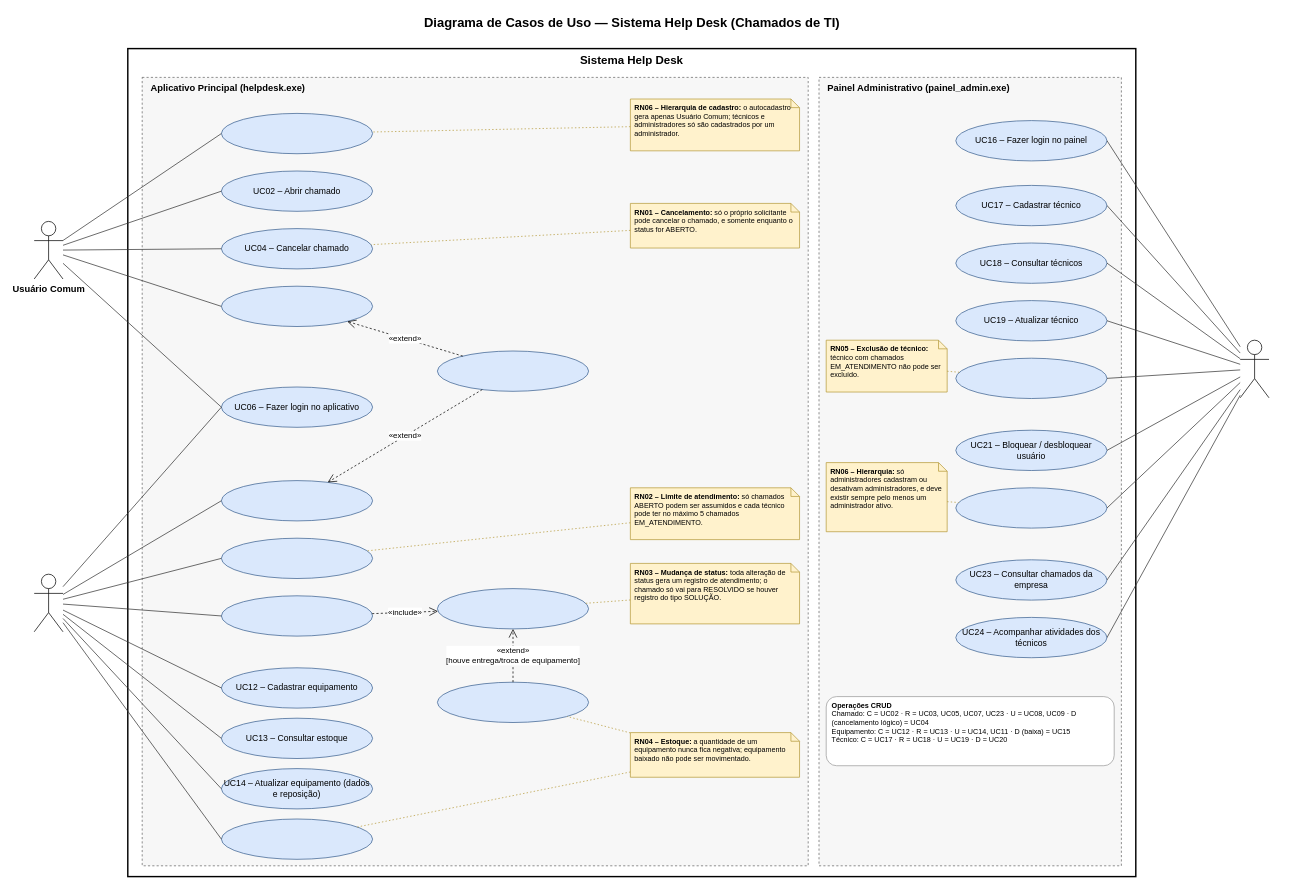
Image size: 1299x889. Some labels were removed from this diagram. The centre of each missing label's shape, as x and y in pixels:
"Administrador" belongs at pixel 1254 368.
"Técnico de TI" belongs at pixel 48 602.
"UC01 – Cadastrar conta" belongs at pixel 297 133.
"UC03 – Consultar meus chamados" belongs at pixel 297 306.
"UC05 – Visualizar histórico do chamado" belongs at pixel 513 370.
"UC07 – Consultar fila de chamados" belongs at pixel 297 500.
"UC08 – Assumir chamado" belongs at pixel 297 558.
"UC09 – Atualizar status do chamado" belongs at pixel 297 615.
"UC10 – Registrar atendimento (diagnóstico, solução ou observação)" belongs at pixel 513 608.
"UC11 – Registrar saída de equipamento para o chamado" belongs at pixel 513 702.
"UC15 – Dar baixa em equipamento" belongs at pixel 297 838.
"UC20 – Excluir técnico" belongs at pixel 1031 378.
"UC22 – Gerenciar administradores" belongs at pixel 1031 507.
